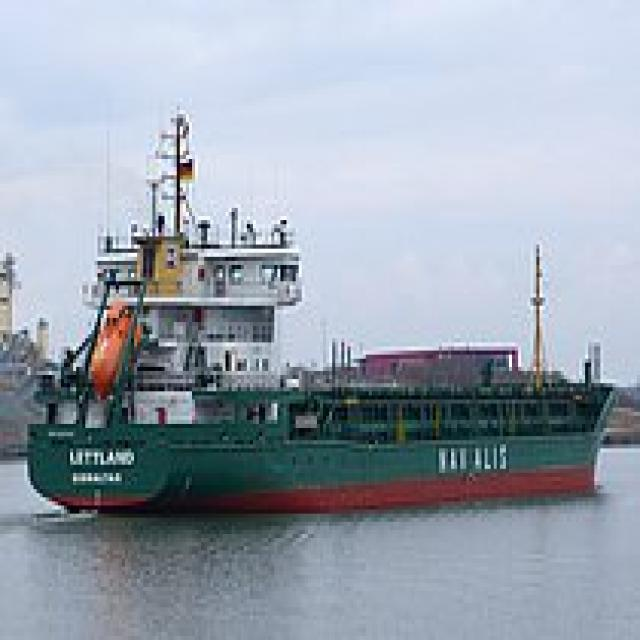Ship: (22, 87, 626, 523)
